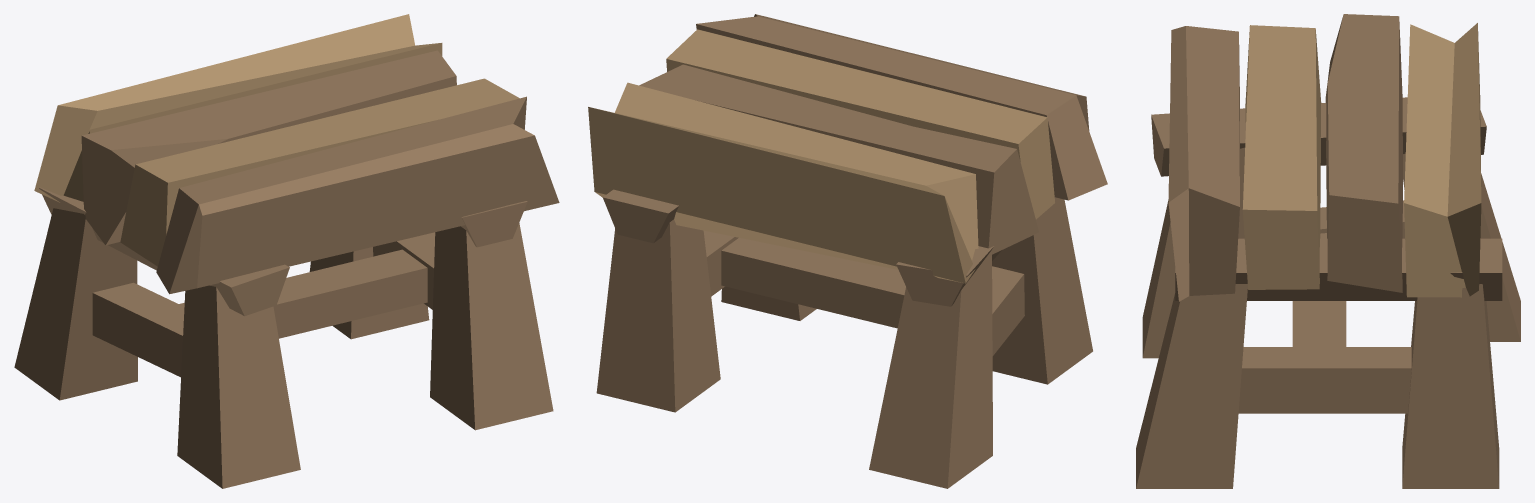
File: WoodChair.fbx
The picture shows the model from 3 angles, left to right: view 1: azimuth 30°, elevation 25°; view 2: azimuth 150°, elevation 25°; view 3: azimuth 270°, elevation 25°; orthographic projection. The views are drawn at different scales.
Parts seen in each view (by area): view 1: Chair; view 2: Chair; view 3: Chair.
Part boxes in pixels (x1,y1,x2,y2): Chair: [14, 14, 559, 488]; Chair: [588, 14, 1107, 488]; Chair: [1136, 14, 1520, 488].
Size of the model in its own units: 127 by 86.35 by 102.
